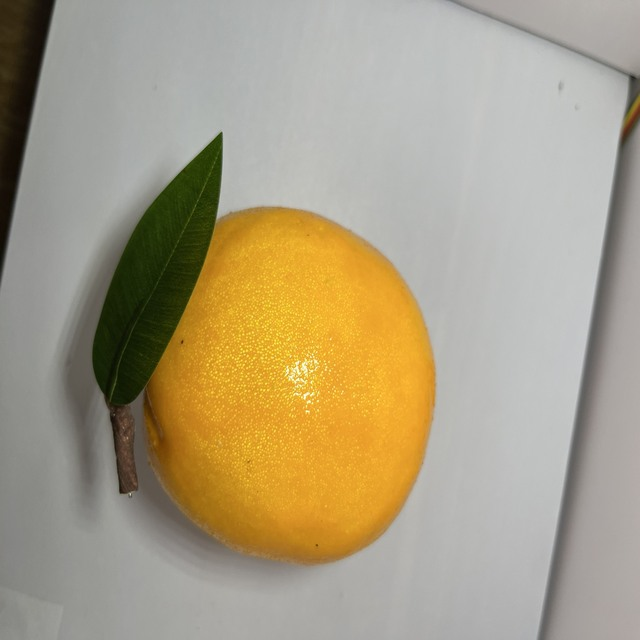Cam vang: (91, 179, 435, 573)
